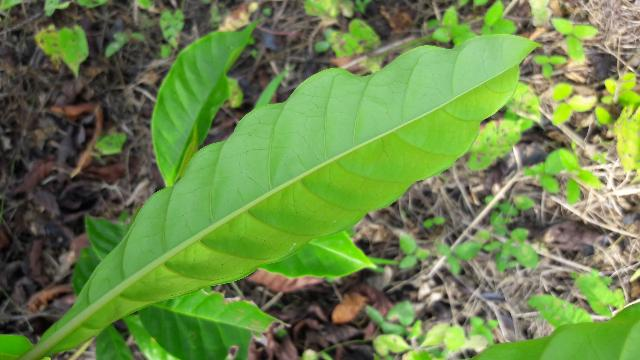healthy: (42, 36, 545, 351)
